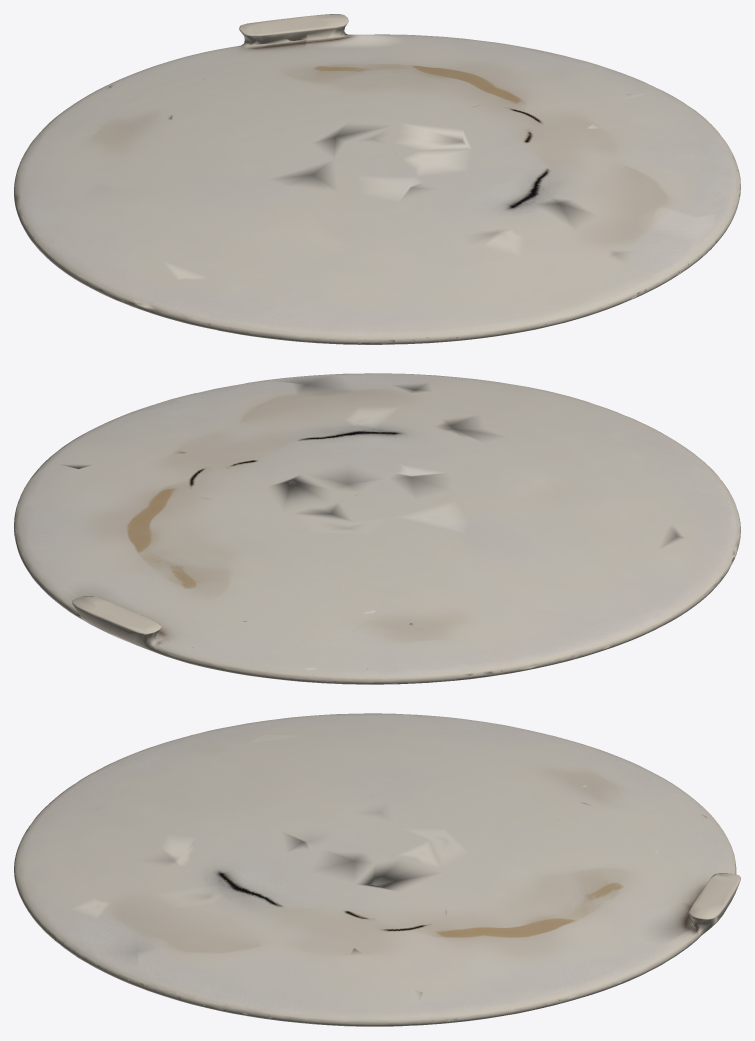
File: rug-model.optimized.glb
3 views of the same model, one above another, from view 1: azimuth 30°, elevation 25°; view 2: azimuth 150°, elevation 25°; view 3: azimuth 270°, elevation 25° (orthographic).
Visible parts, largest first — view 1: node_0; view 2: node_0; view 3: node_0.
Boxes of the visible parts, left/top/right/bottom form: node_0: left=14, top=14, right=740, bottom=344; node_0: left=14, top=373, right=740, bottom=684; node_0: left=14, top=713, right=740, bottom=1026.
Size of the model in its own units: 1.18 by 0.0633 by 1.17.
Materials: 1 (1 with a texture image).
